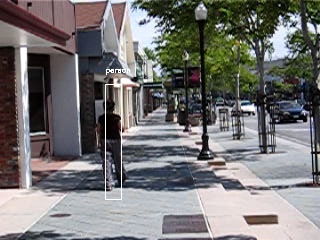person: (96, 98, 127, 192), (95, 98, 126, 192), (97, 98, 128, 192), (96, 97, 127, 191), (96, 99, 127, 193)
target_negative: (54, 41, 191, 162), (21, 175, 64, 226), (283, 206, 318, 228), (17, 176, 50, 186), (305, 210, 316, 233)
